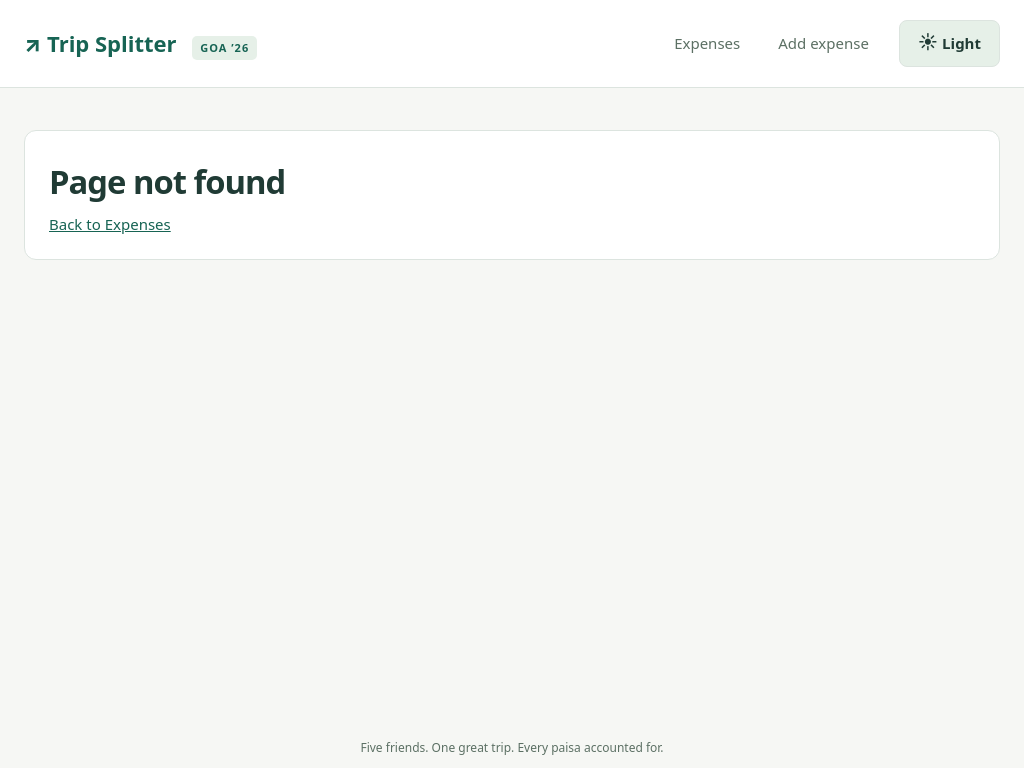
Test: renders unknown routes and a working return link
Expected: the heading "Page not found" is shown, [49,158,285,204]
Click the link "Back to Expenses" at (110, 224), box [49,214,171,234]
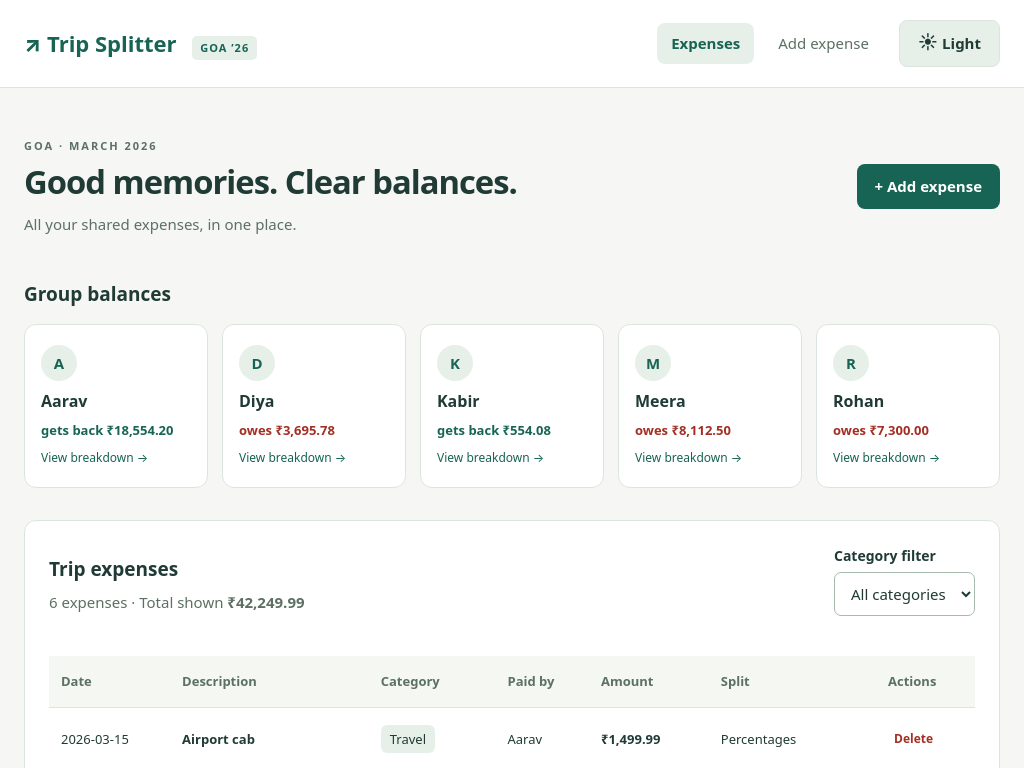
Expected: the heading "Trip expenses" is shown, [49,556,178,582]
